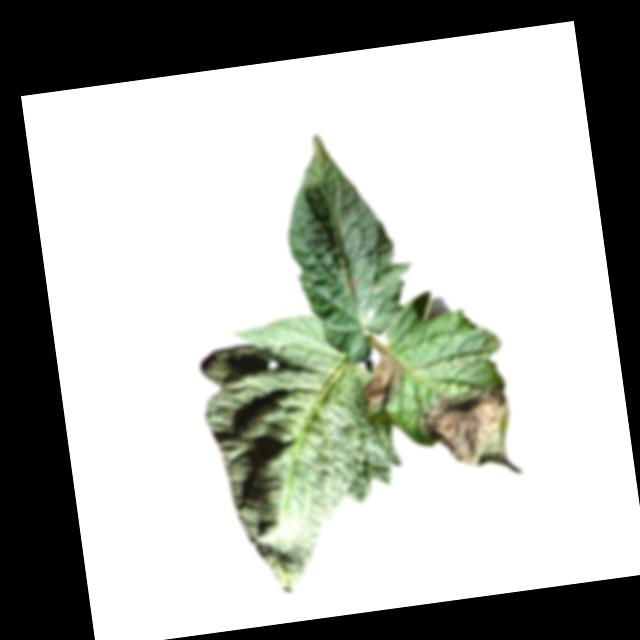Late_blight: (415, 383, 523, 487), (358, 349, 413, 416), (343, 276, 362, 294)
healthy: (192, 303, 419, 602)
